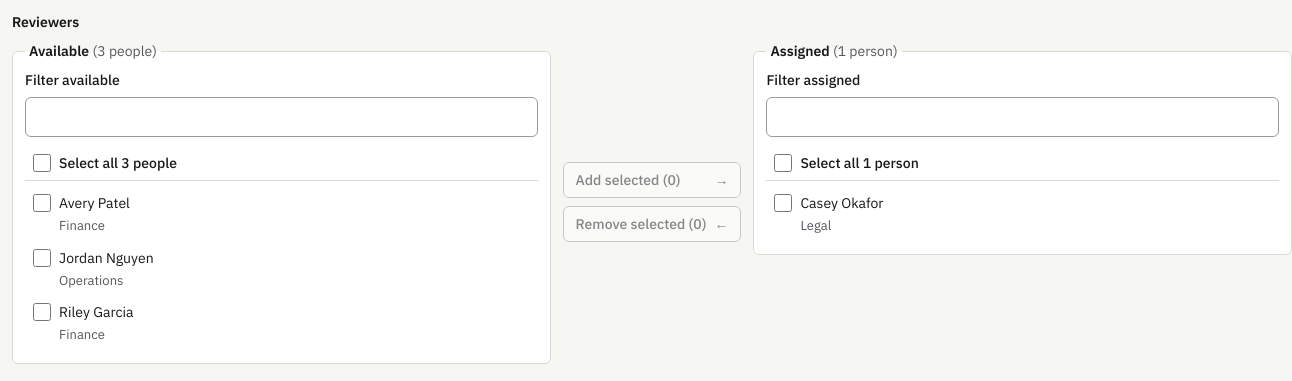
Test: TransferList › explains empty filter results (edge case)
Type "zzz" into the search field labelled "Filter available" at (281, 117), box [25,97,538,137]
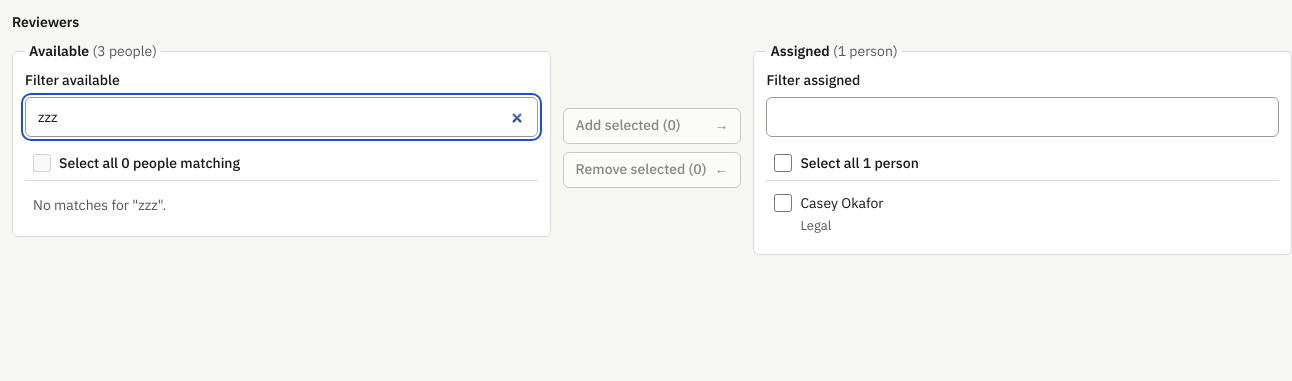
Expected: the text "No matches for \"zzz\"." is shown, [33,196,166,214]
Expected: the checkbox labelled "Select all 0 people matching" is disabled, [33,154,51,172]
